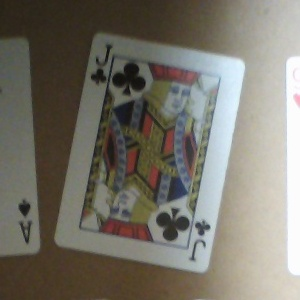card: (55, 27, 245, 273)
